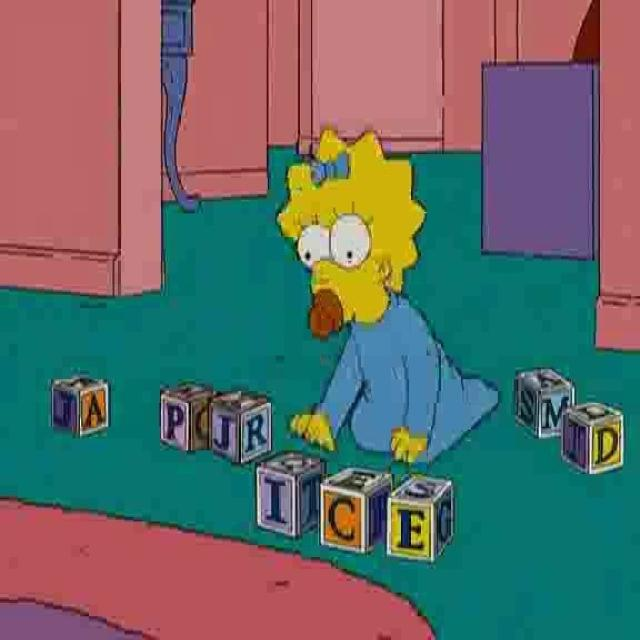Maggie Simpson: (274, 125, 430, 343)
